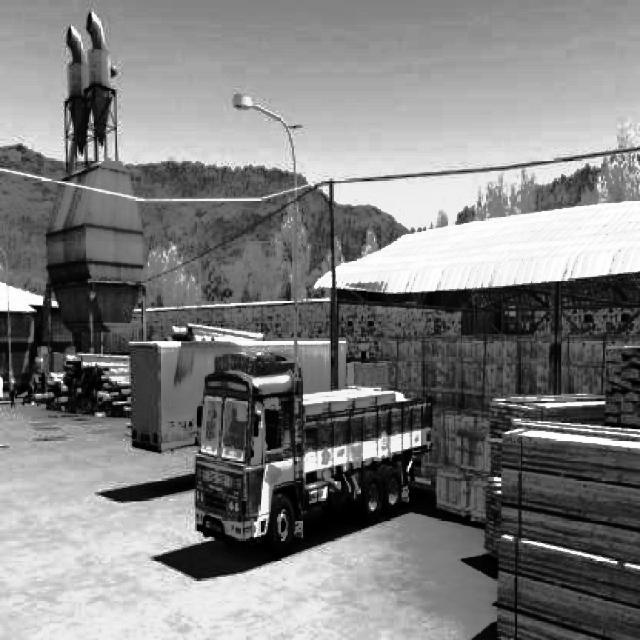HCV: (208, 361, 430, 554)
